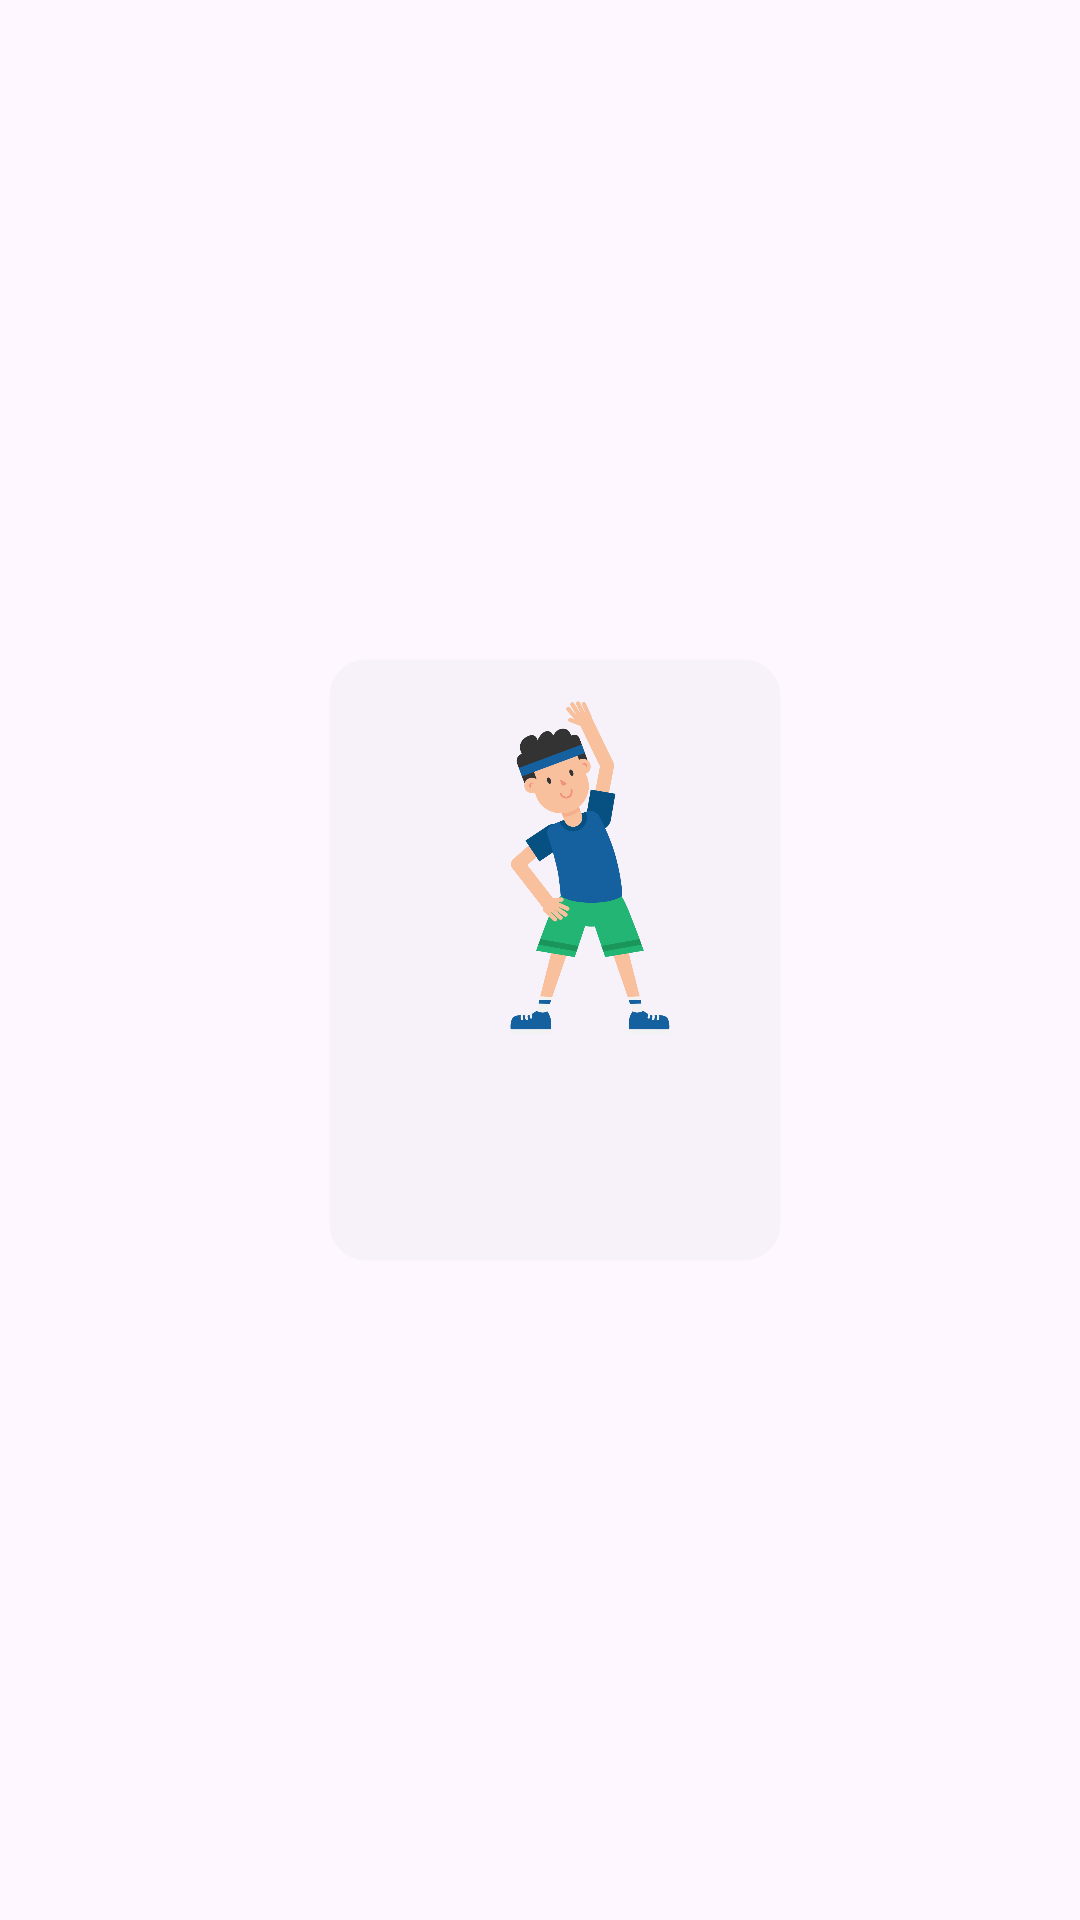

Icons on this 1080 × 1920 Android screen, each with the point to tap as (x=x, y=y):
exercise: (x=590, y=865)
